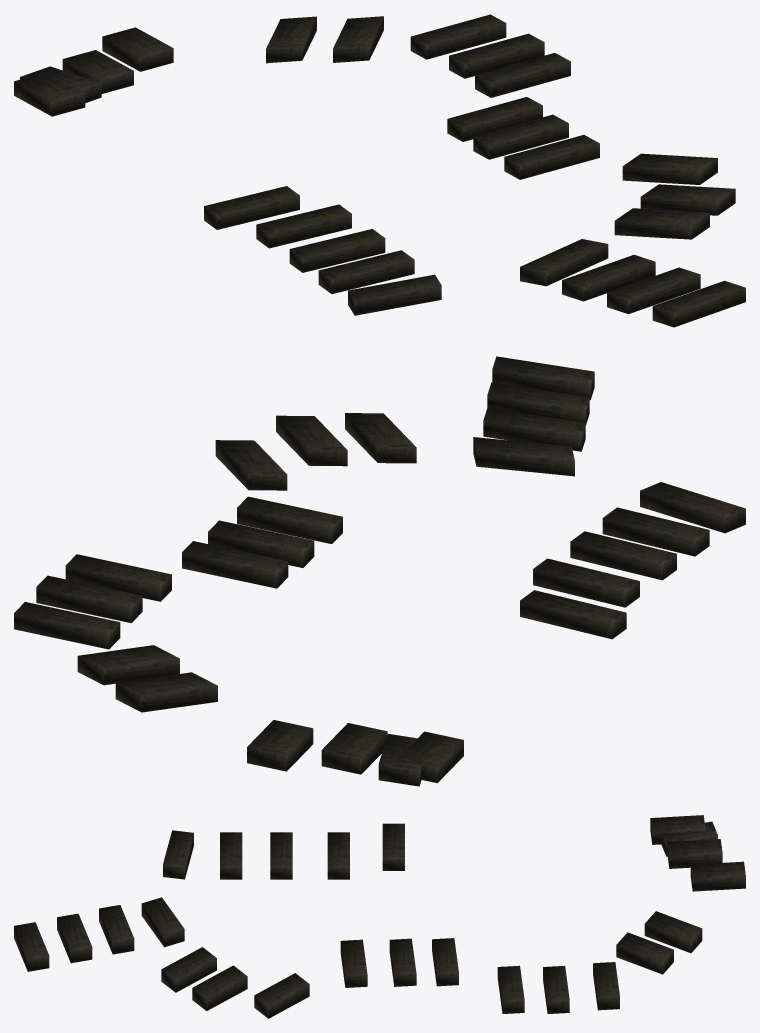
File: Tile03.obj
3 views of the same model, one above another, from view 1: azimuth 30°, elevation 25°; view 2: azimuth 150°, elevation 25°; view 3: azimuth 270°, elevation 25° (orthographic). The views are drawn at different scales.
Parts seen in each view (by area): view 1: Box001; view 2: Box001; view 3: Box001.
Boxes of the visible parts, x1,y1,x2,y2 form: Box001: (14,14,745,327); Box001: (14,356,745,786); Box001: (14,815,745,1018).
Size of the model in its own units: 257 by 9.34 by 420.
1 material, 1 textured.
